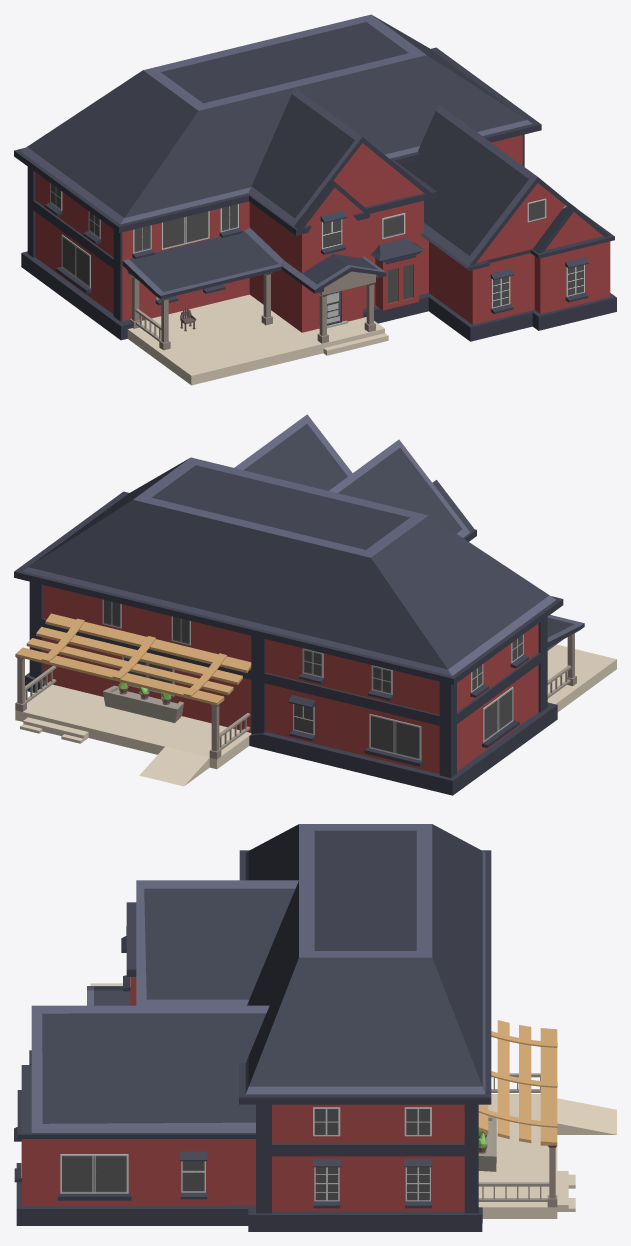
Rendered from house05_color03.fbx.
3 renders of one model, top to bottom at view 1: azimuth 30°, elevation 25°; view 2: azimuth 150°, elevation 25°; view 3: azimuth 270°, elevation 25°, orthographic. The views are drawn at different scales.
Visible parts, largest first — view 1: Cube.420; view 2: Cube.420; view 3: Cube.420.
Part boxes in pixels (box(x1,y1,x2,y2)): Cube.420: box(14, 14, 616, 385); Cube.420: box(14, 414, 616, 795); Cube.420: box(14, 824, 616, 1231).
Size of the model in its own units: 2864 by 1219 by 2952.
